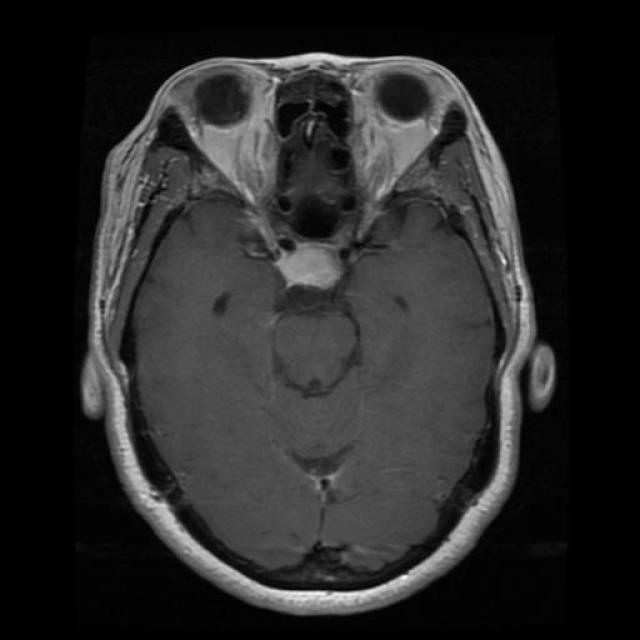pituitary: (255, 226, 372, 306)
